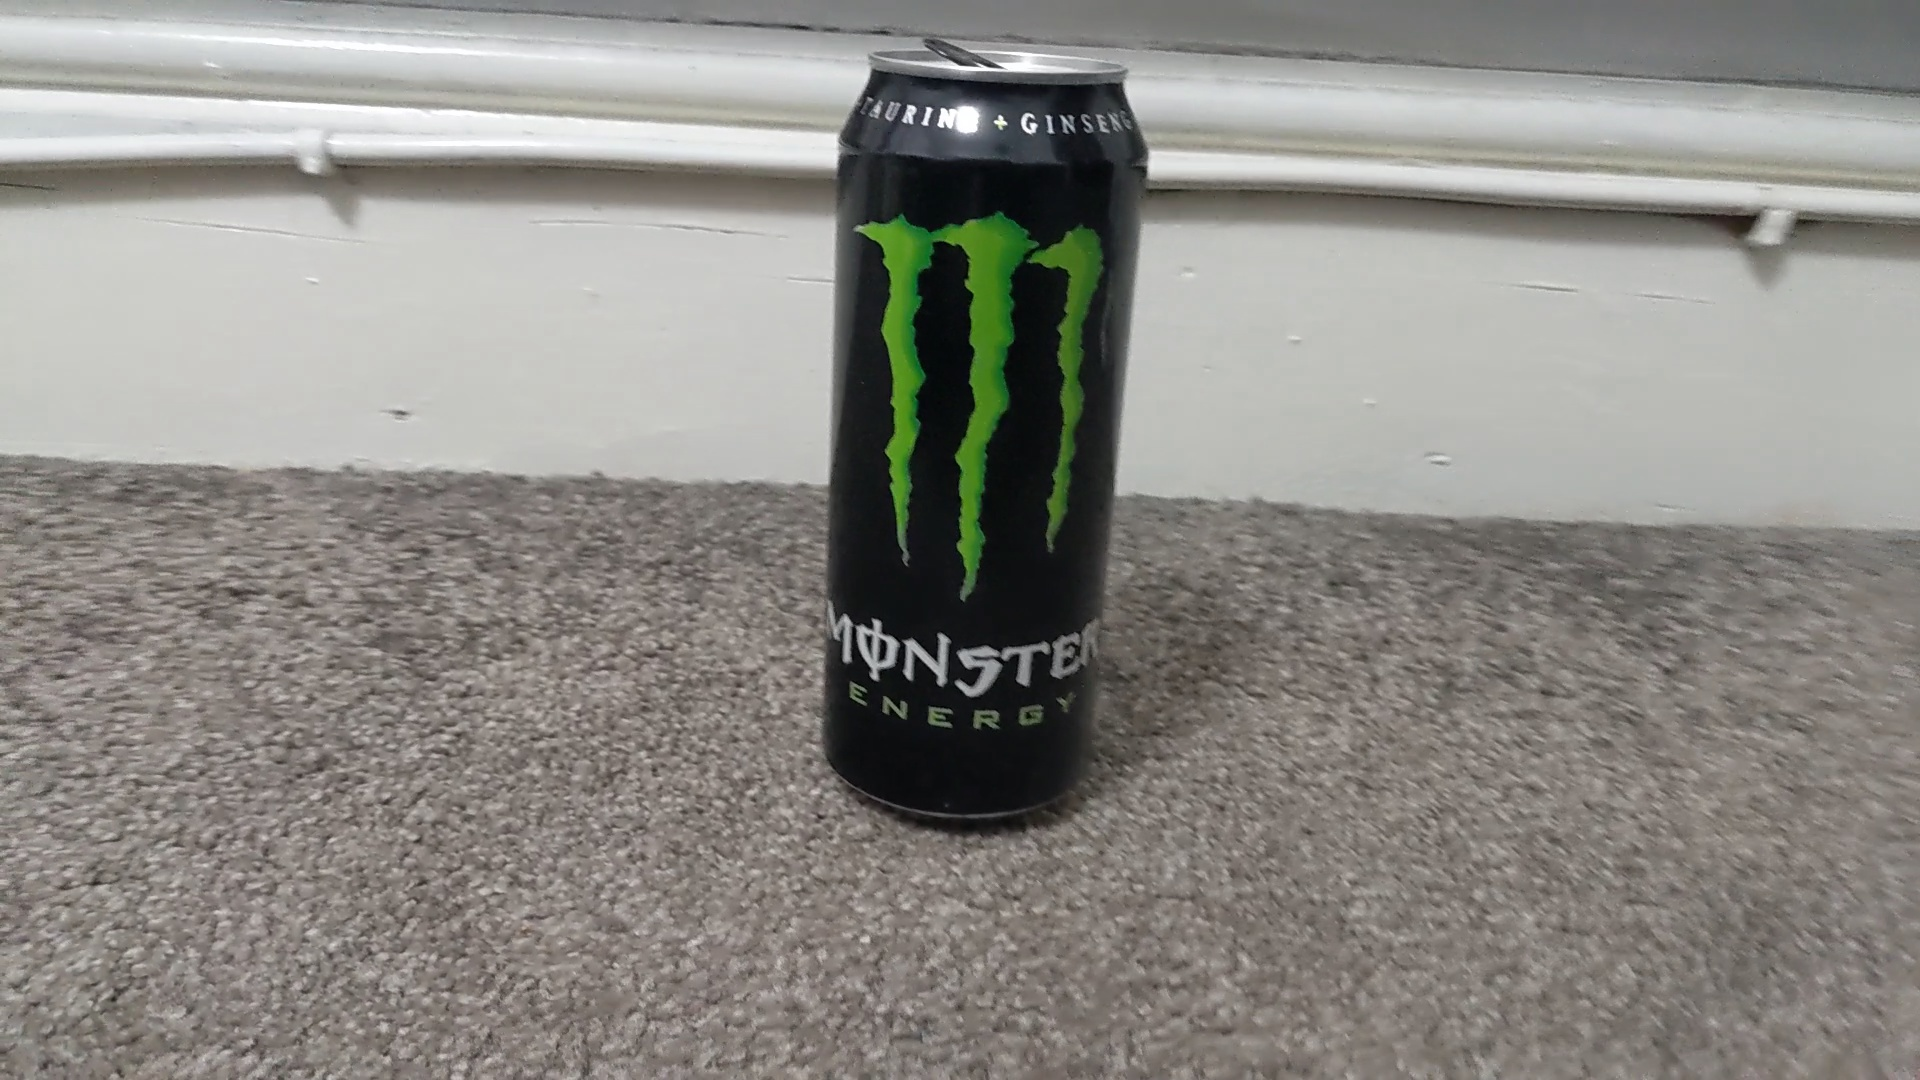monster-original: (823, 49, 1151, 814)
